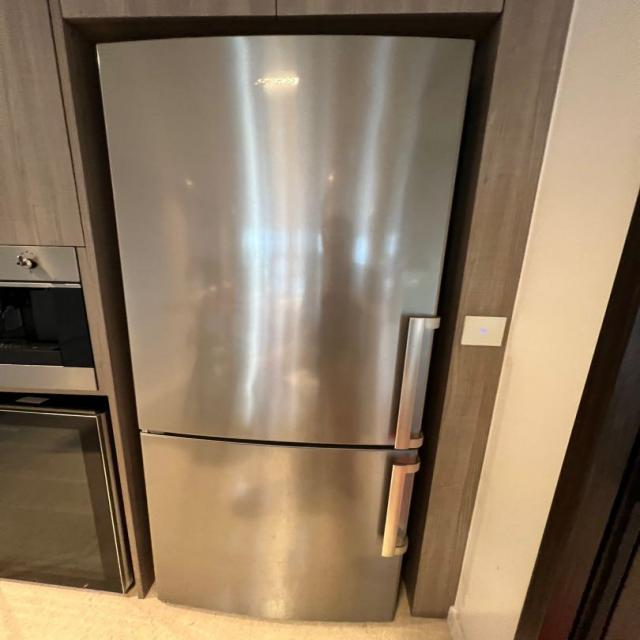refrigerator: (94, 39, 481, 624), (95, 35, 476, 620)
